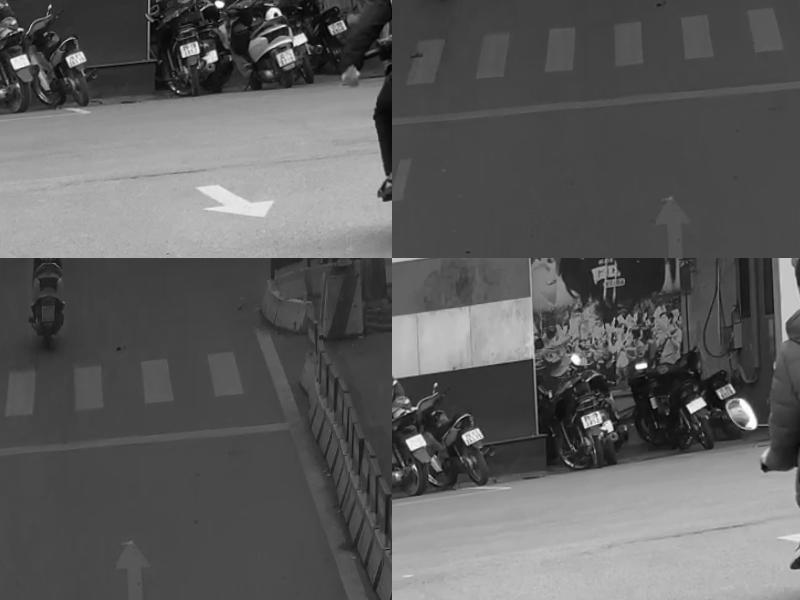license_plate: (461, 429, 485, 452), (273, 59, 297, 81), (578, 416, 603, 437), (404, 435, 428, 456), (714, 391, 737, 411), (10, 58, 31, 79), (686, 404, 707, 424), (327, 30, 347, 50), (178, 52, 199, 69), (66, 59, 87, 76), (41, 309, 54, 329)
motorcyclist: (25, 258, 66, 372)
